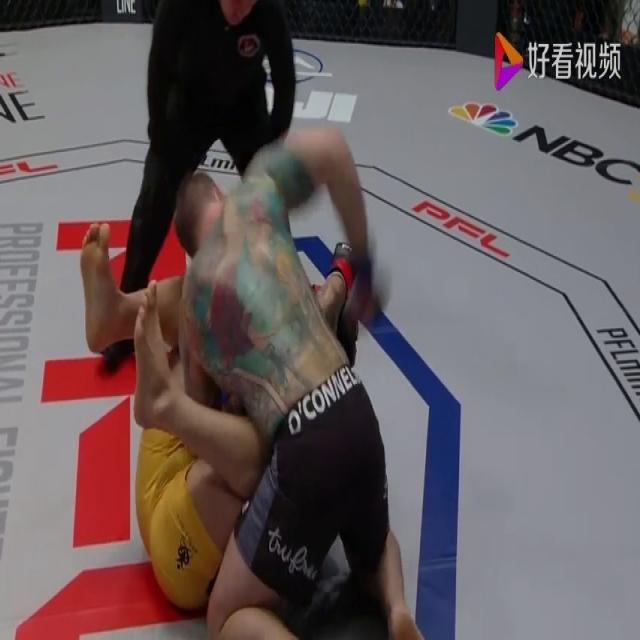fight: (56, 99, 434, 638)
non-fight: (101, 0, 297, 368)
